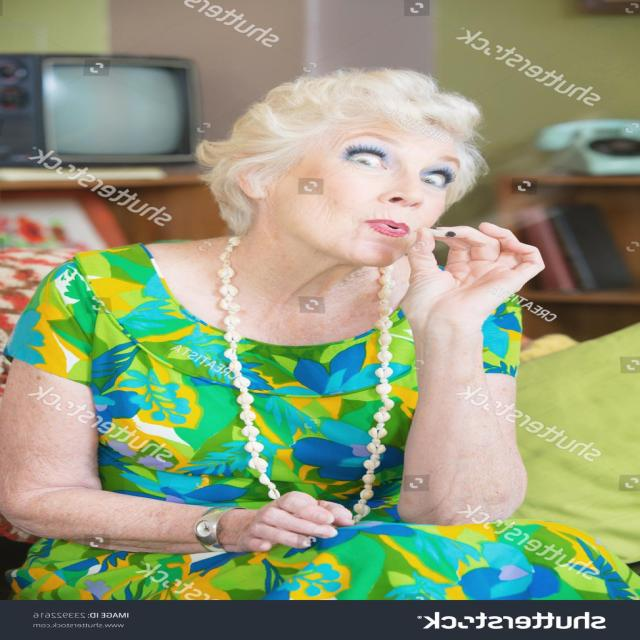smoking: (211, 76, 529, 302)
